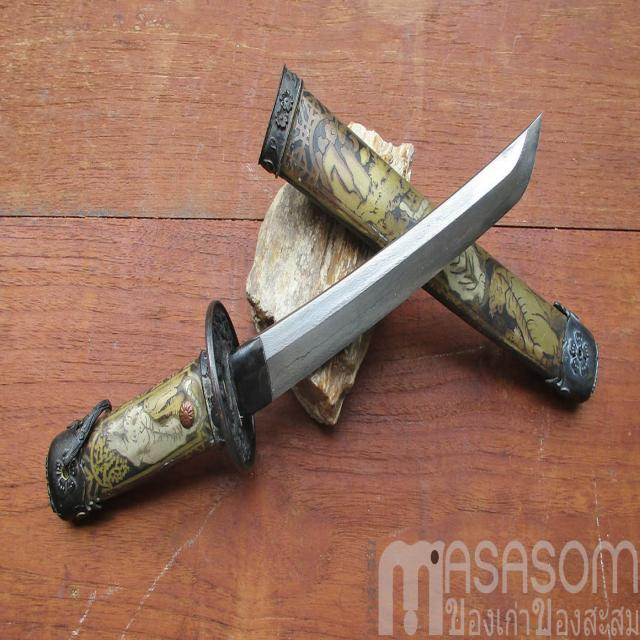short sword: (34, 45, 611, 545)
